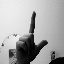l: (15, 10, 49, 60)
